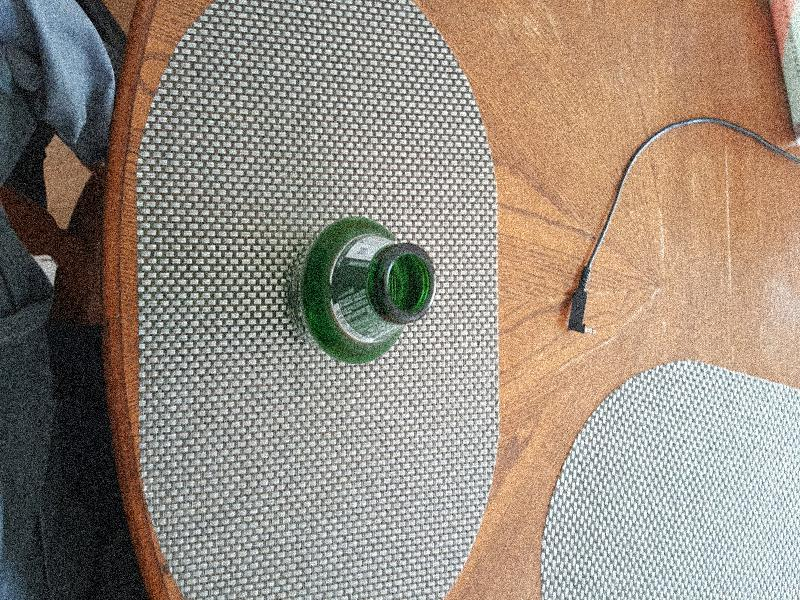Beer: (286, 225, 433, 357)
